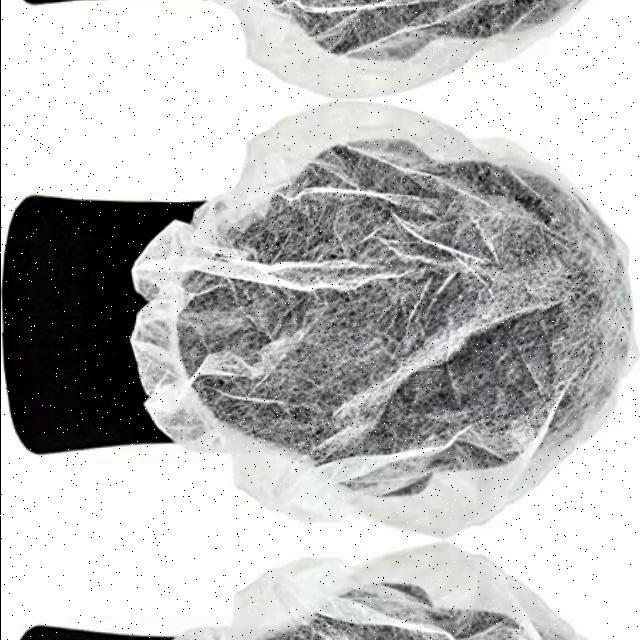gloves: (133, 91, 640, 570)
